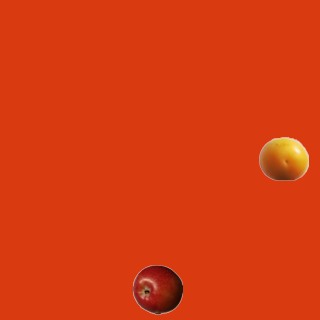Apple Braeburn: (132, 264, 182, 314)
Cherry Wax Yellow: (258, 133, 308, 183)
